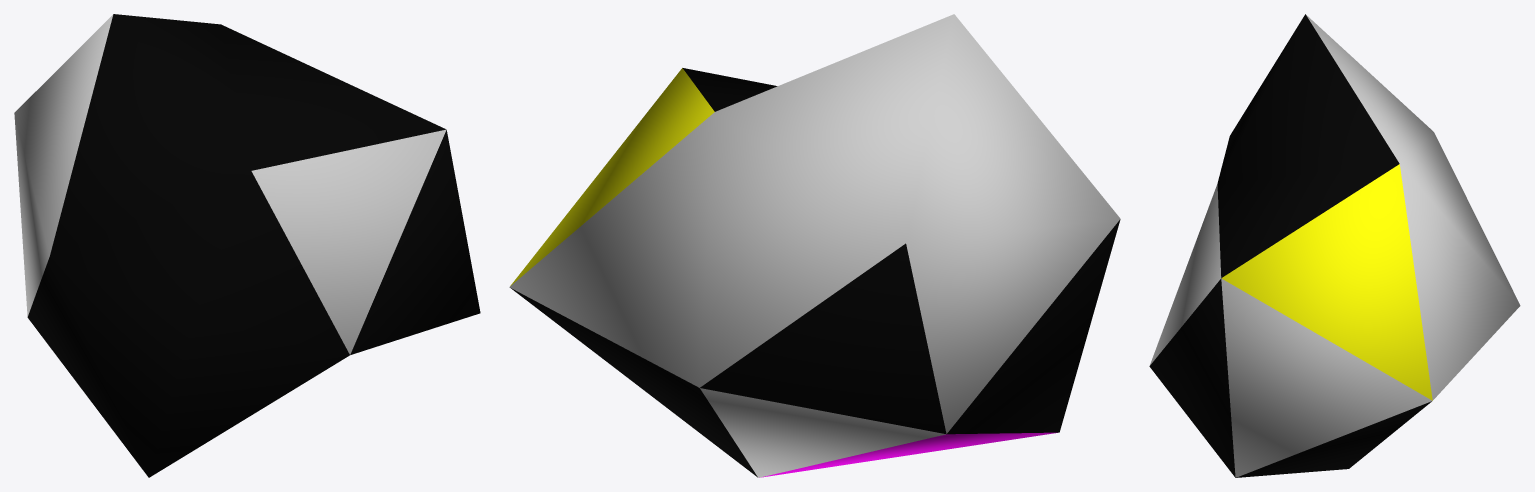
Rendered from coarse_blob.obj.
The picture shows the model from 3 angles, left to right: view 1: azimuth 30°, elevation 25°; view 2: azimuth 150°, elevation 25°; view 3: azimuth 270°, elevation 25°; orthographic projection. The views are drawn at different scales.
Size of the model in its own units: 0.6296 by 0.5948 by 0.5143.
